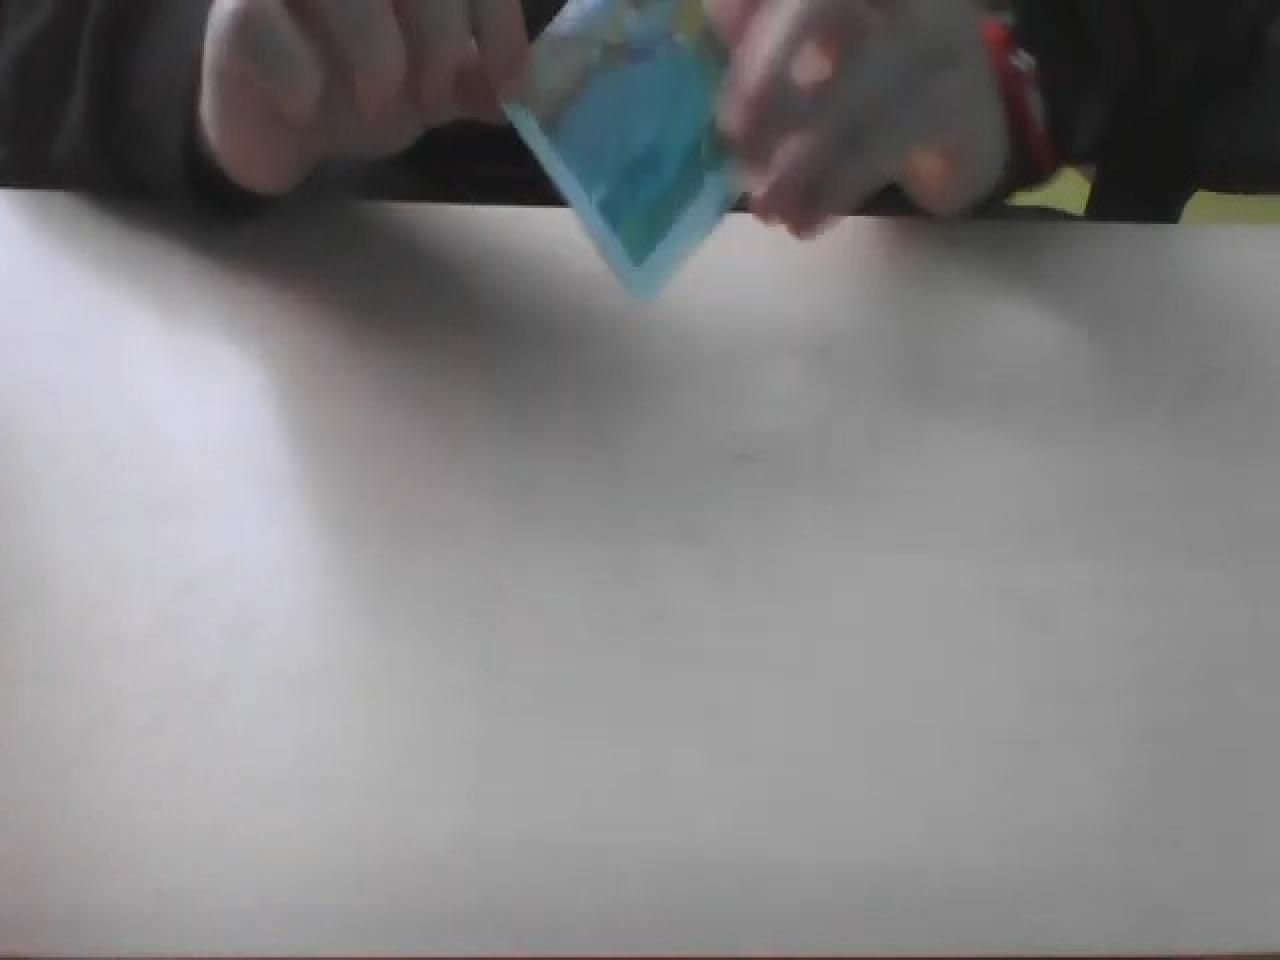100leva: (398, 0, 748, 304)
